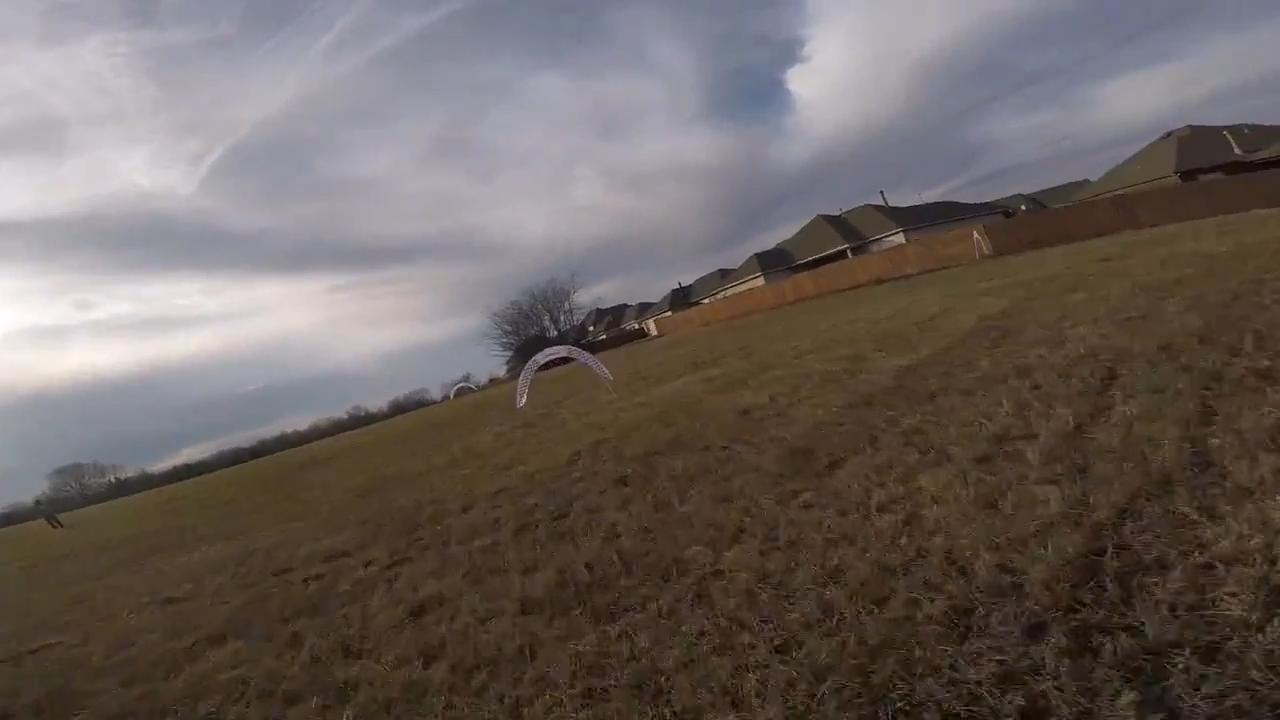gate: (510, 343, 613, 412)
